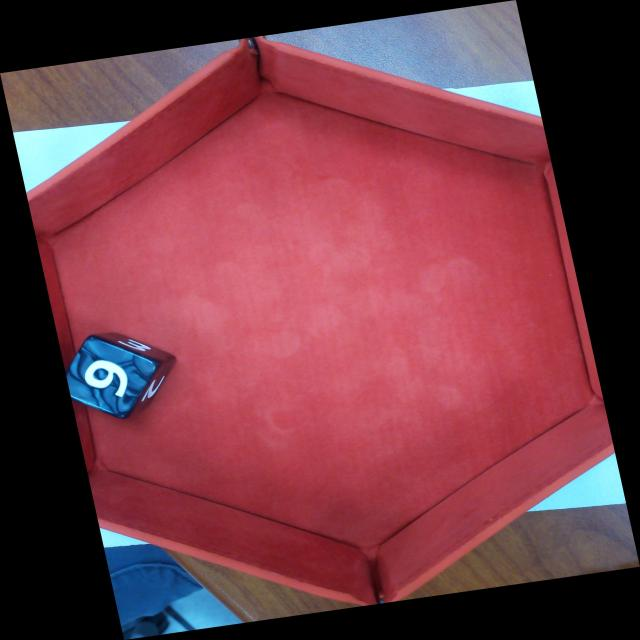dice: (66, 338, 158, 425)
